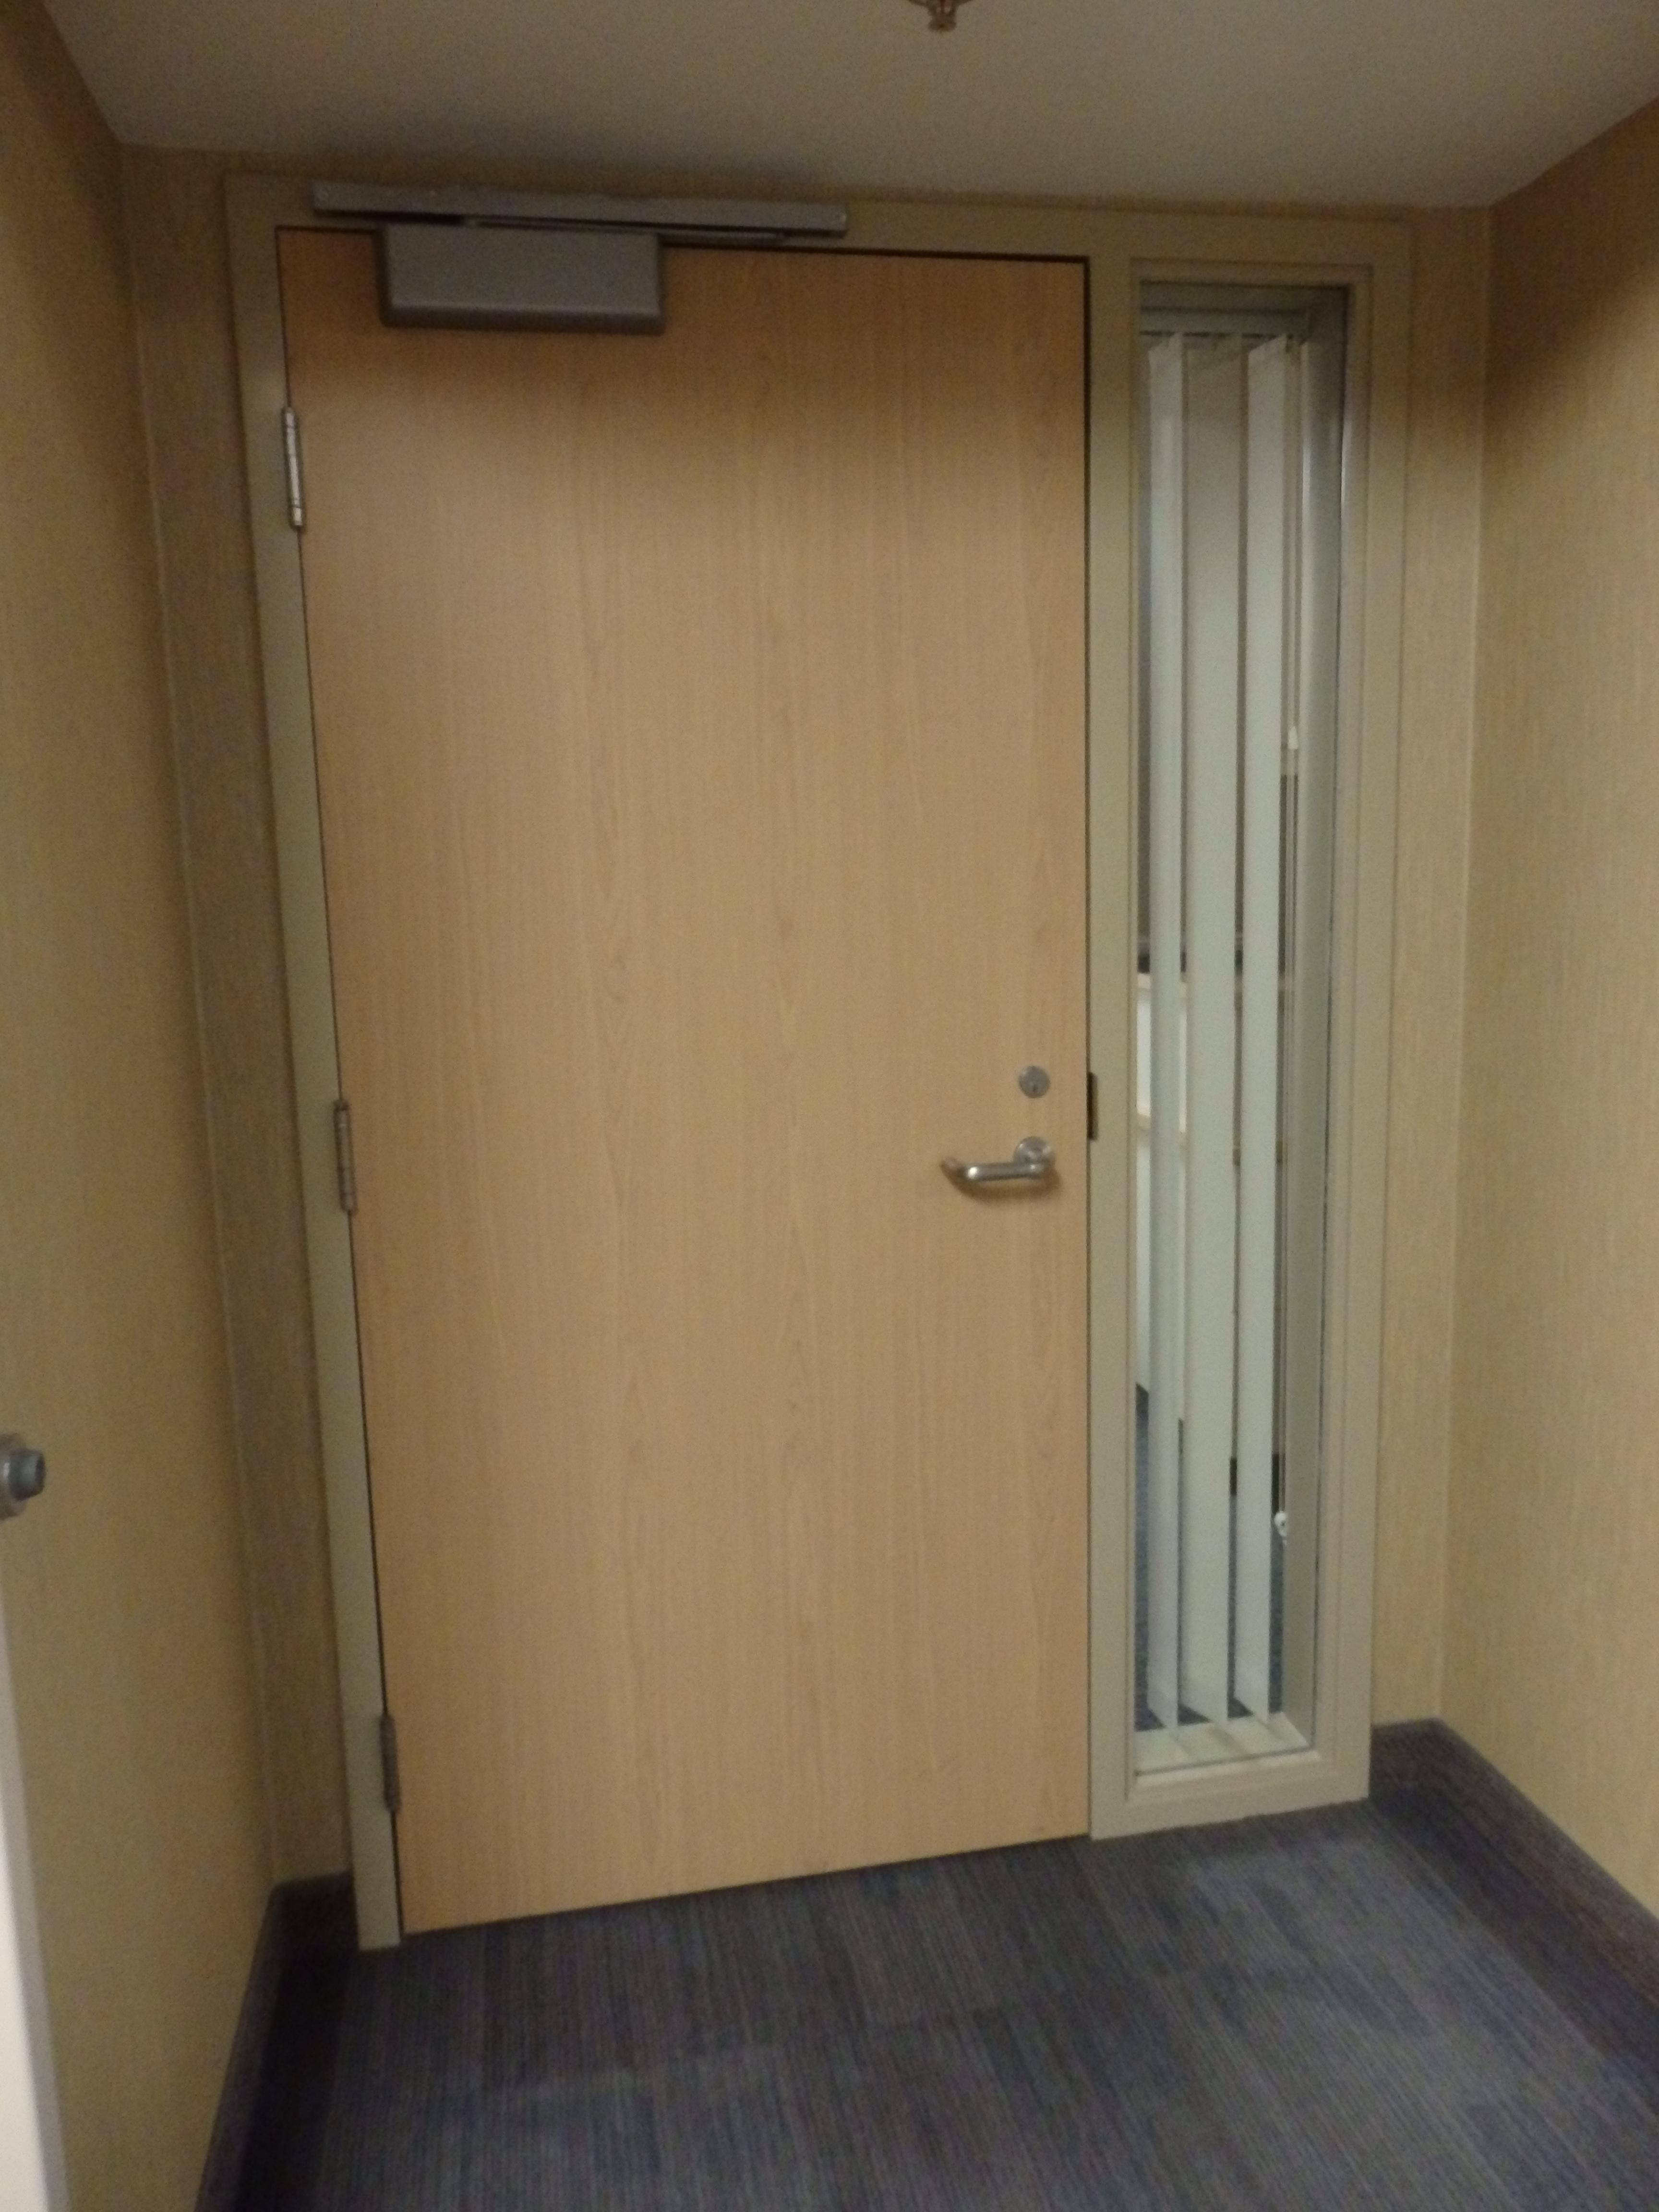door: (225, 169, 1145, 1951)
